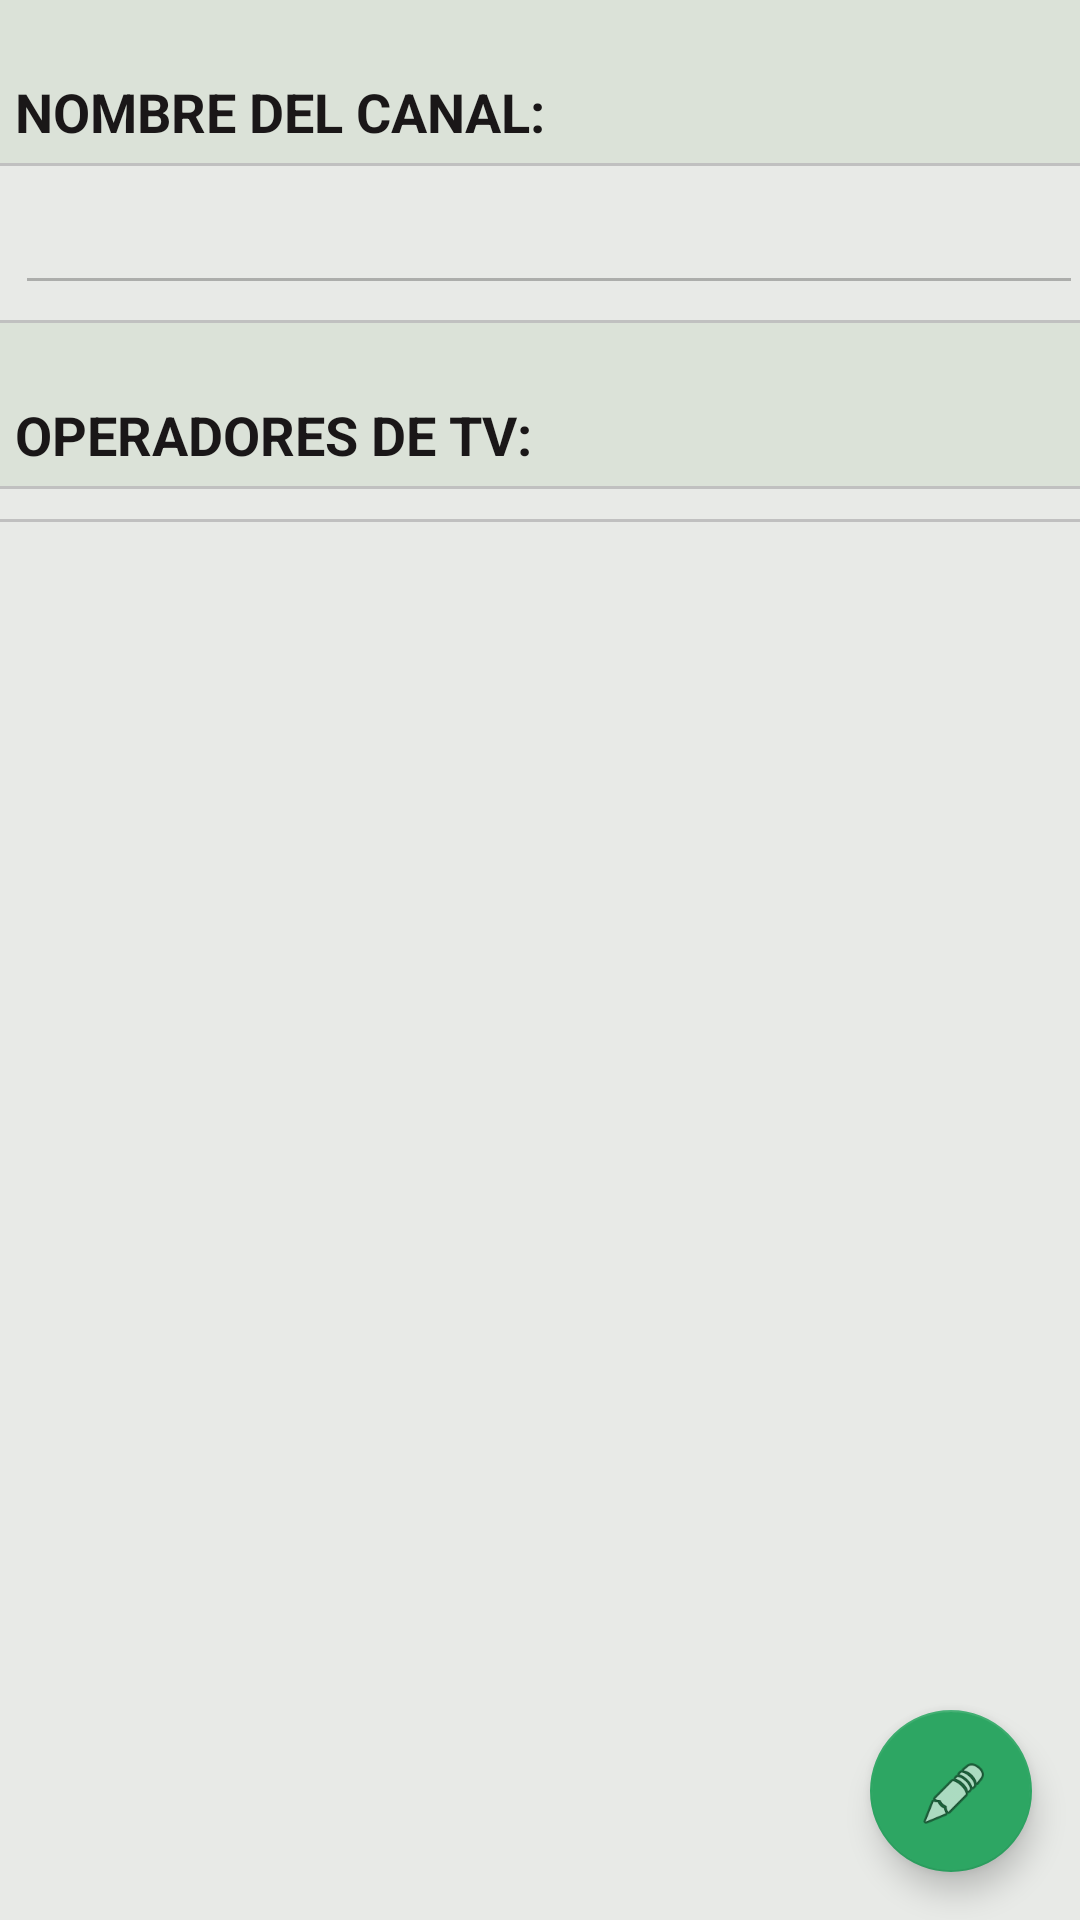

Icon bounding boxes for this 1080px x 1920px phone screenshot, format (x1, y1, x2, y2):
edit: (870, 1710, 1032, 1872)
